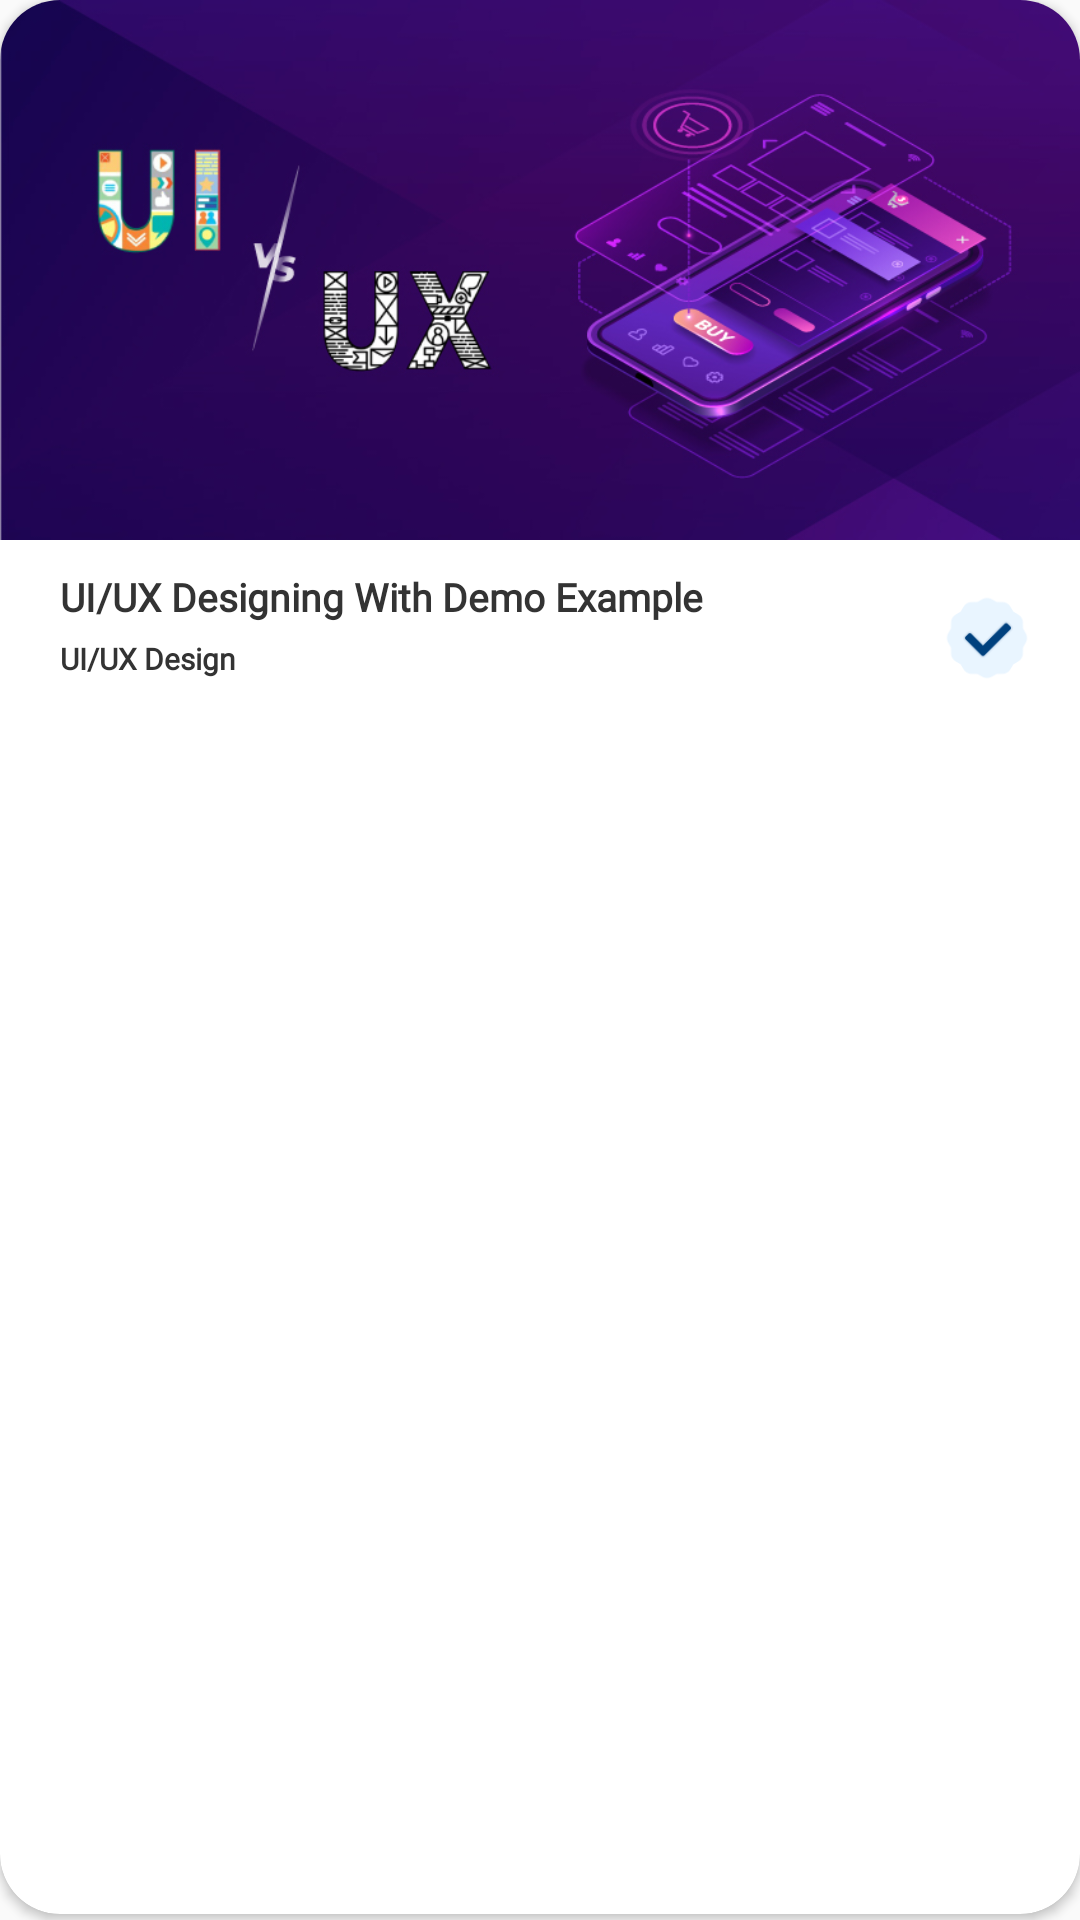

Named icons in this screenshot (1080×1920) and their bounding boxes, (x1, y1, x2, y2):
verified: (947, 598, 1027, 678)
